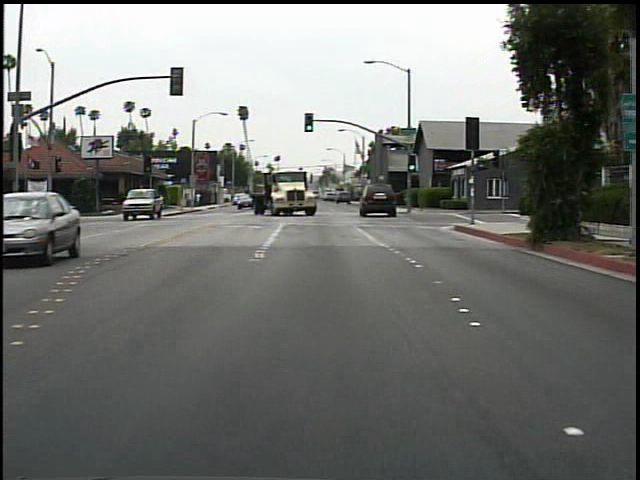person: (195, 189, 205, 209)
